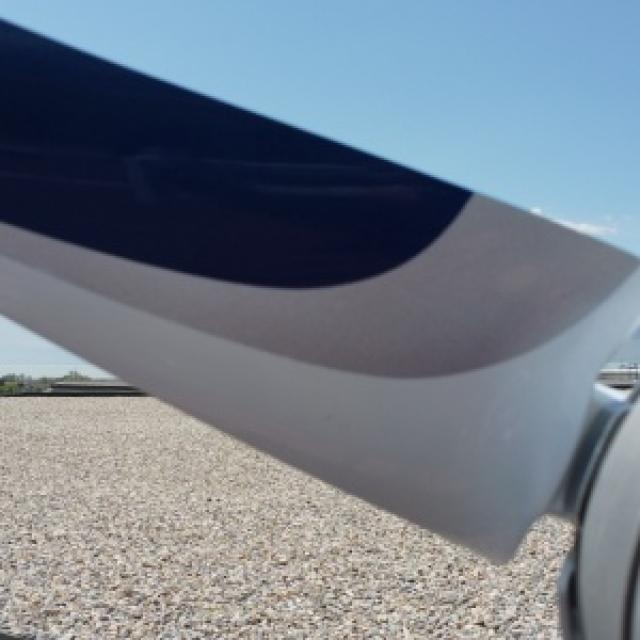healthy: (0, 397, 567, 638)
